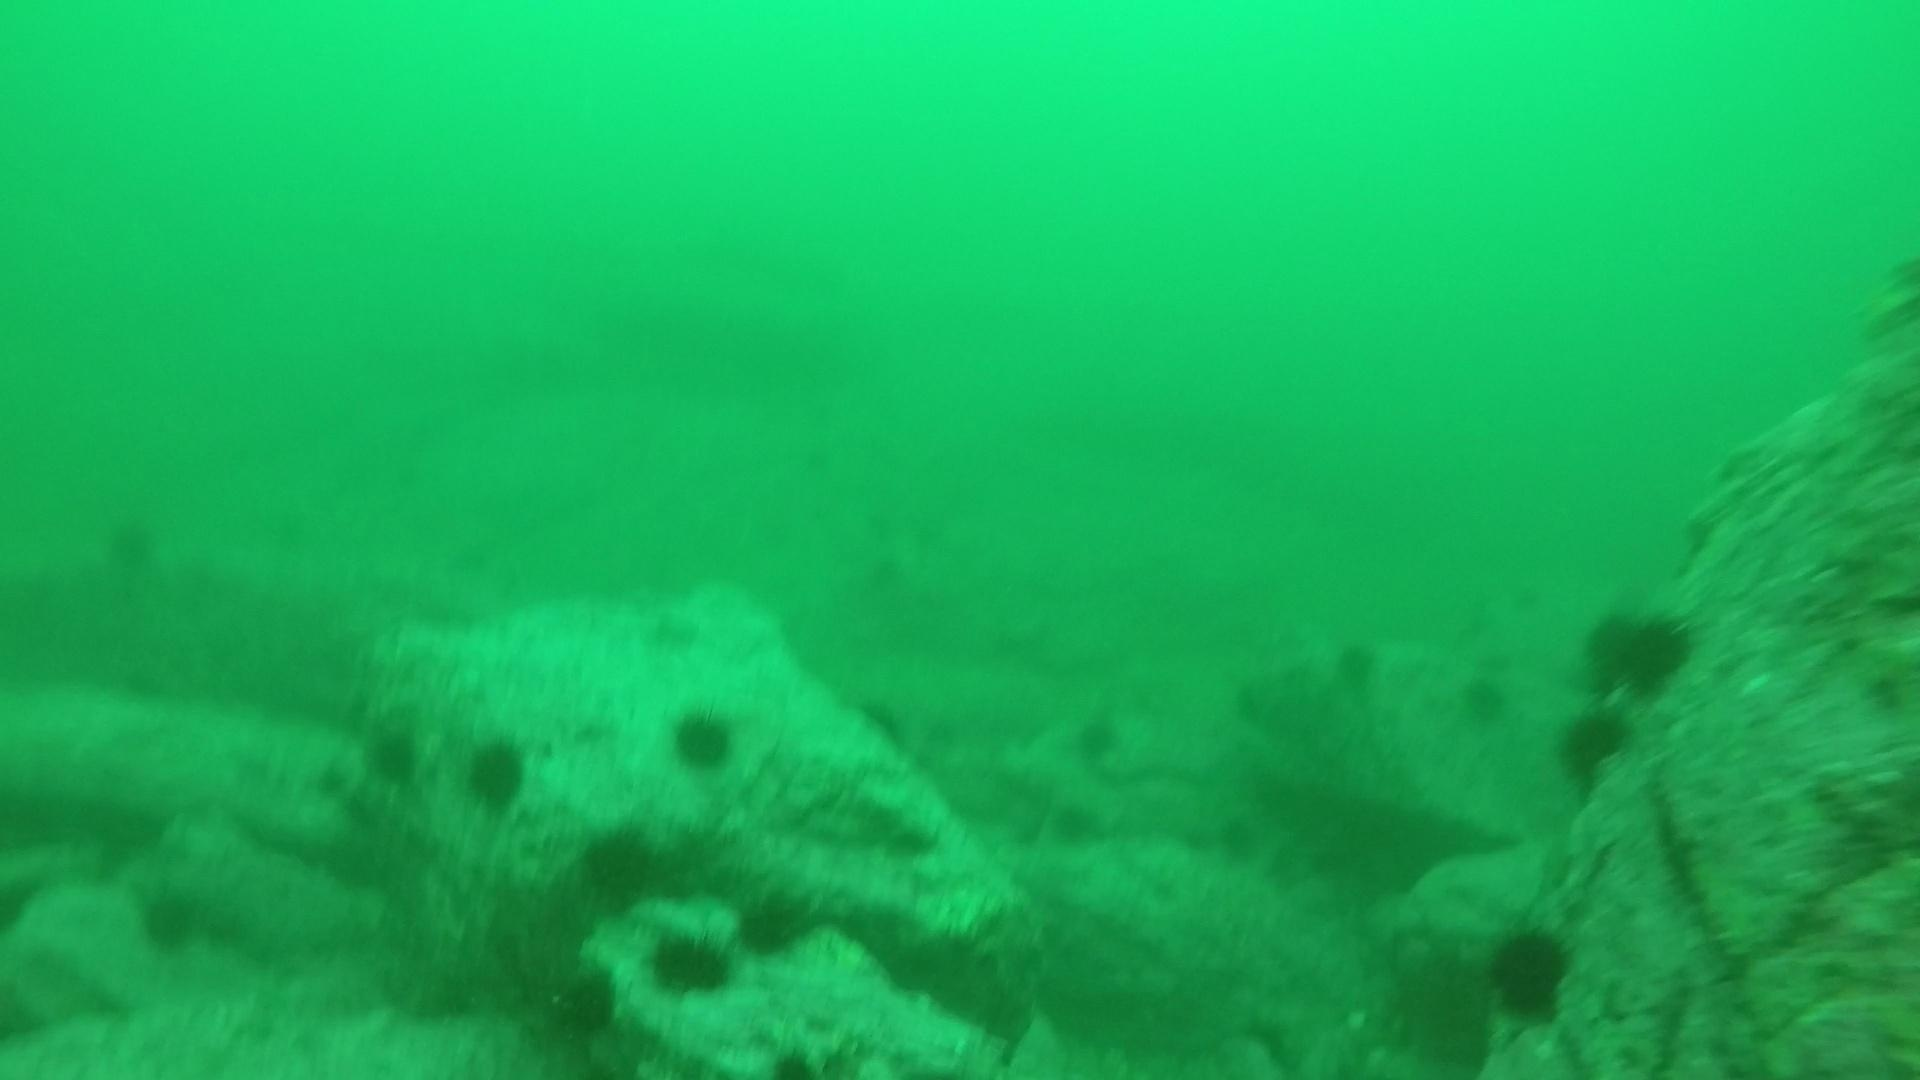echinus: (1381, 944, 1503, 1069), (1580, 601, 1697, 699), (1481, 919, 1578, 1025), (575, 822, 667, 911), (641, 924, 738, 1004), (1552, 702, 1635, 790), (731, 887, 816, 963), (545, 963, 624, 1043), (458, 731, 534, 814), (837, 692, 916, 767), (665, 702, 742, 777), (135, 882, 208, 956), (361, 723, 425, 790), (100, 510, 164, 574), (1047, 787, 1102, 849), (1455, 670, 1513, 728), (1329, 636, 1385, 694), (1068, 711, 1124, 766), (1215, 823, 1255, 866), (1258, 851, 1299, 893)
